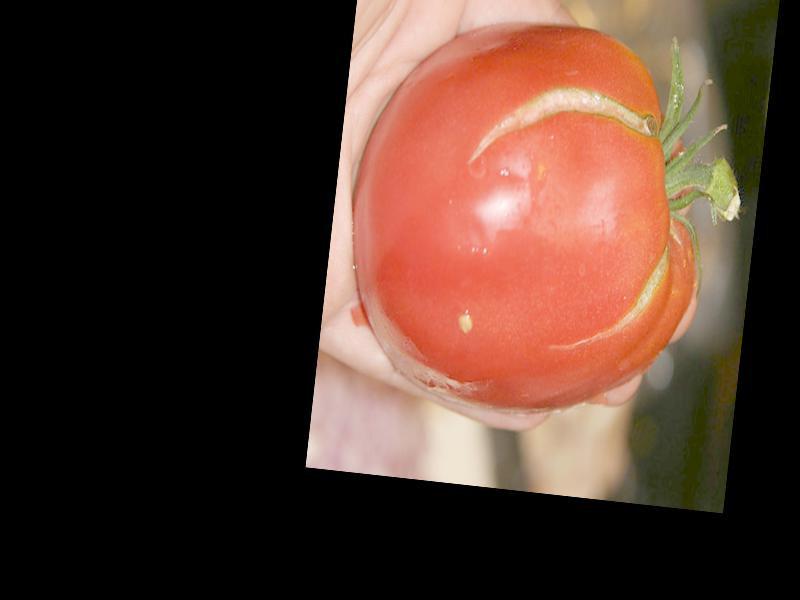Tomato: (332, 9, 720, 429)
